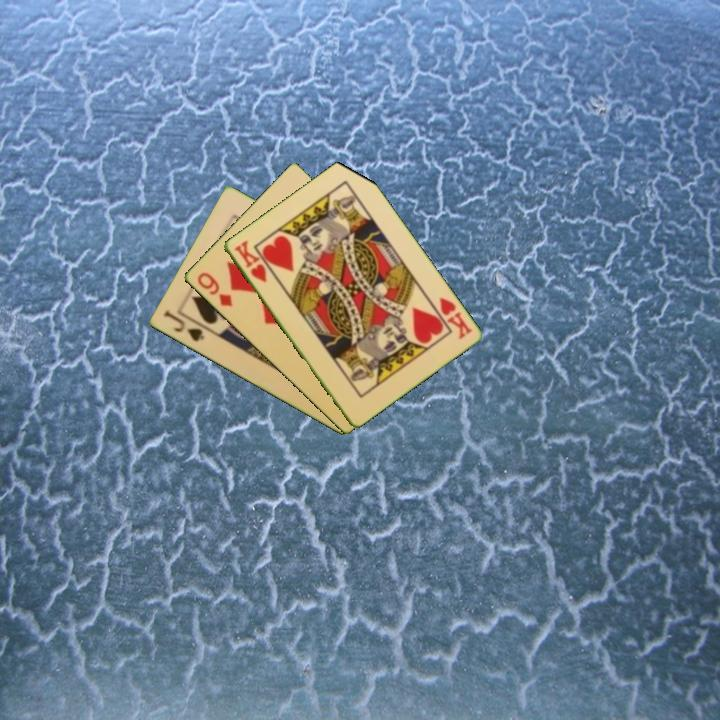9d: (193, 268, 235, 310)
Js: (159, 306, 207, 345)
Kh: (435, 294, 475, 342), (230, 237, 269, 285)
